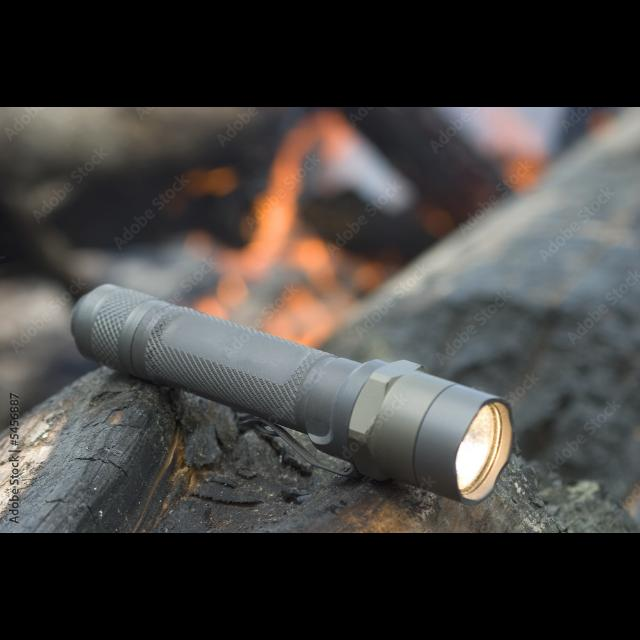Flashlight: (66, 276, 520, 510)
